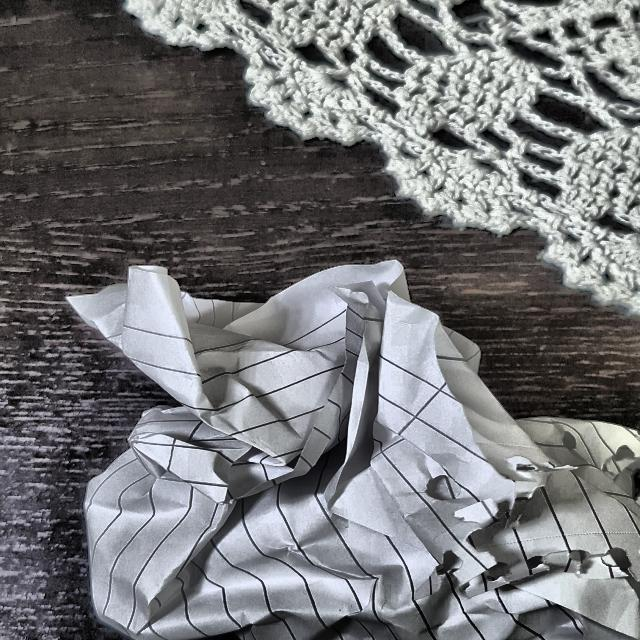paper: (67, 252, 640, 640)
